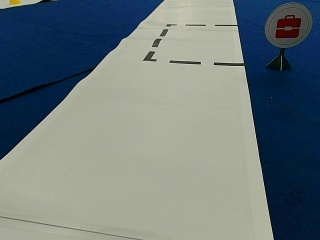company: (265, 3, 313, 47)
